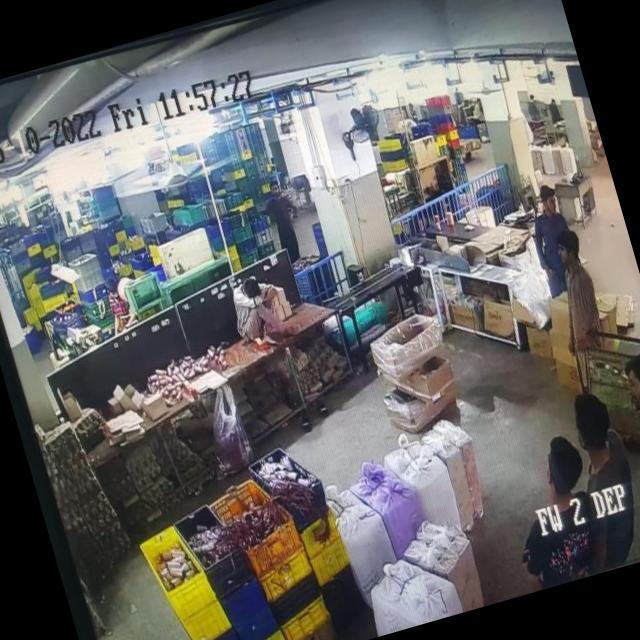person: (496, 427, 616, 590), (551, 381, 640, 571), (542, 225, 610, 349), (520, 178, 586, 296), (607, 347, 640, 554), (261, 172, 308, 261)
